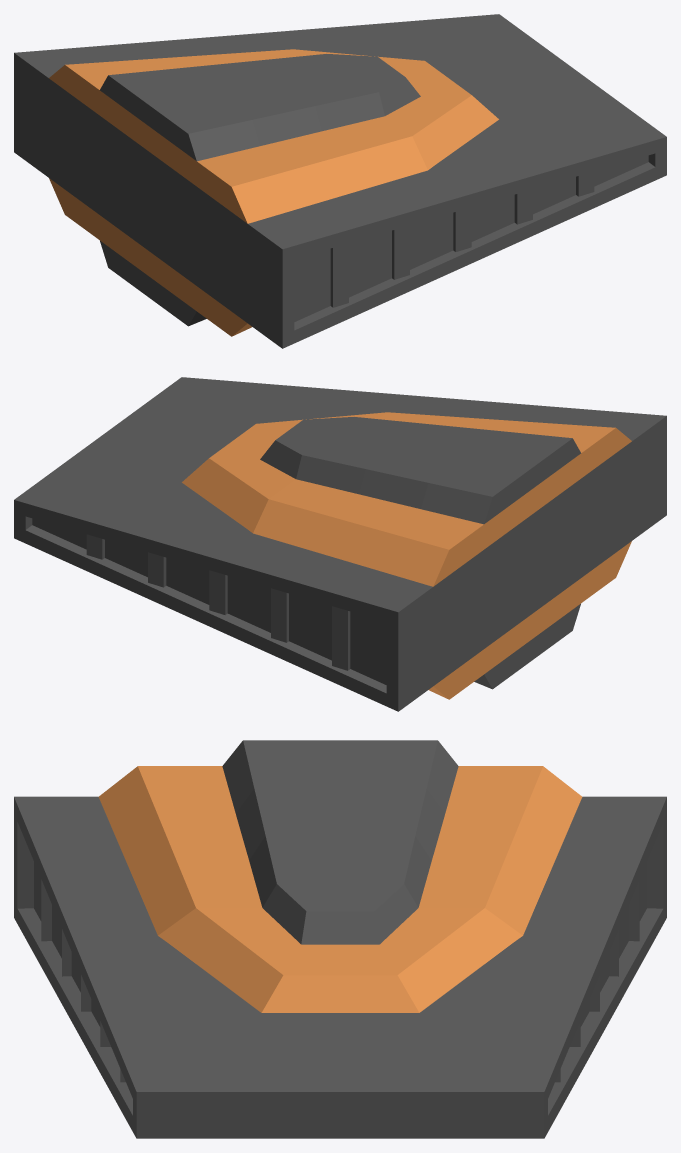
The model's file is Spacefighter_Wing.fbx.
3 views of the same model, one above another, from view 1: azimuth 30°, elevation 25°; view 2: azimuth 150°, elevation 25°; view 3: azimuth 270°, elevation 25° (orthographic). The views are drawn at different scales.
Parts seen in each view (by area): view 1: Spacefighter_Wing; view 2: Spacefighter_Wing; view 3: Spacefighter_Wing.
Boxes of the visible parts, x1=… form: Spacefighter_Wing: x1=14, y1=14, x2=666, y2=348; Spacefighter_Wing: x1=14, y1=377, x2=666, y2=711; Spacefighter_Wing: x1=14, y1=740, x2=666, y2=1138.
Size of the model in its own units: 313 by 132 by 335.
